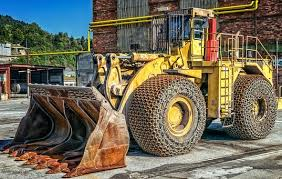bulldozer: (0, 10, 279, 179)
